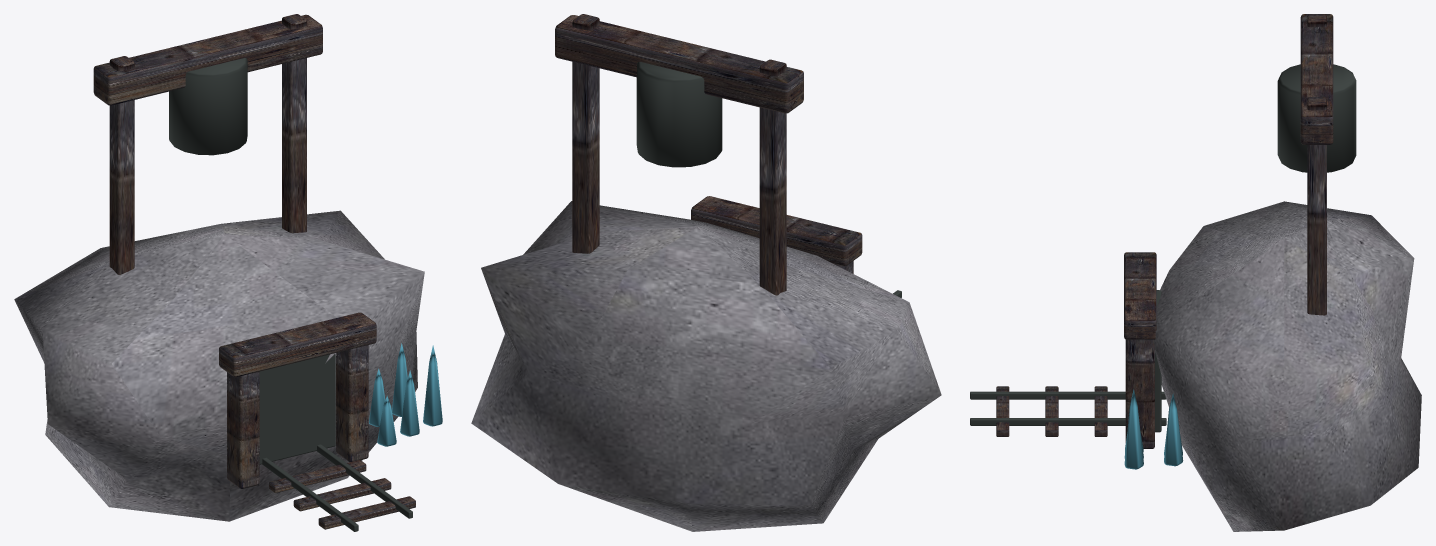
The model's file is env-site-deepMine.glb.
3 renders of one model, left to right at view 1: azimuth 30°, elevation 25°; view 2: azimuth 150°, elevation 25°; view 3: azimuth 270°, elevation 25°, orthographic. The views are drawn at different scales.
Visible parts, largest first — view 1: site deepMine · authored textured miniature; view 2: site deepMine · authored textured miniature; view 3: site deepMine · authored textured miniature.
Boxes of the visible parts, x1,y1,x2,y2 form: site deepMine · authored textured miniature: (14, 14, 442, 531); site deepMine · authored textured miniature: (471, 14, 941, 531); site deepMine · authored textured miniature: (970, 14, 1421, 531).
Size of the model in its own units: 1.37 by 1.51 by 1.38.
Materials: 4 (2 with a texture image).
